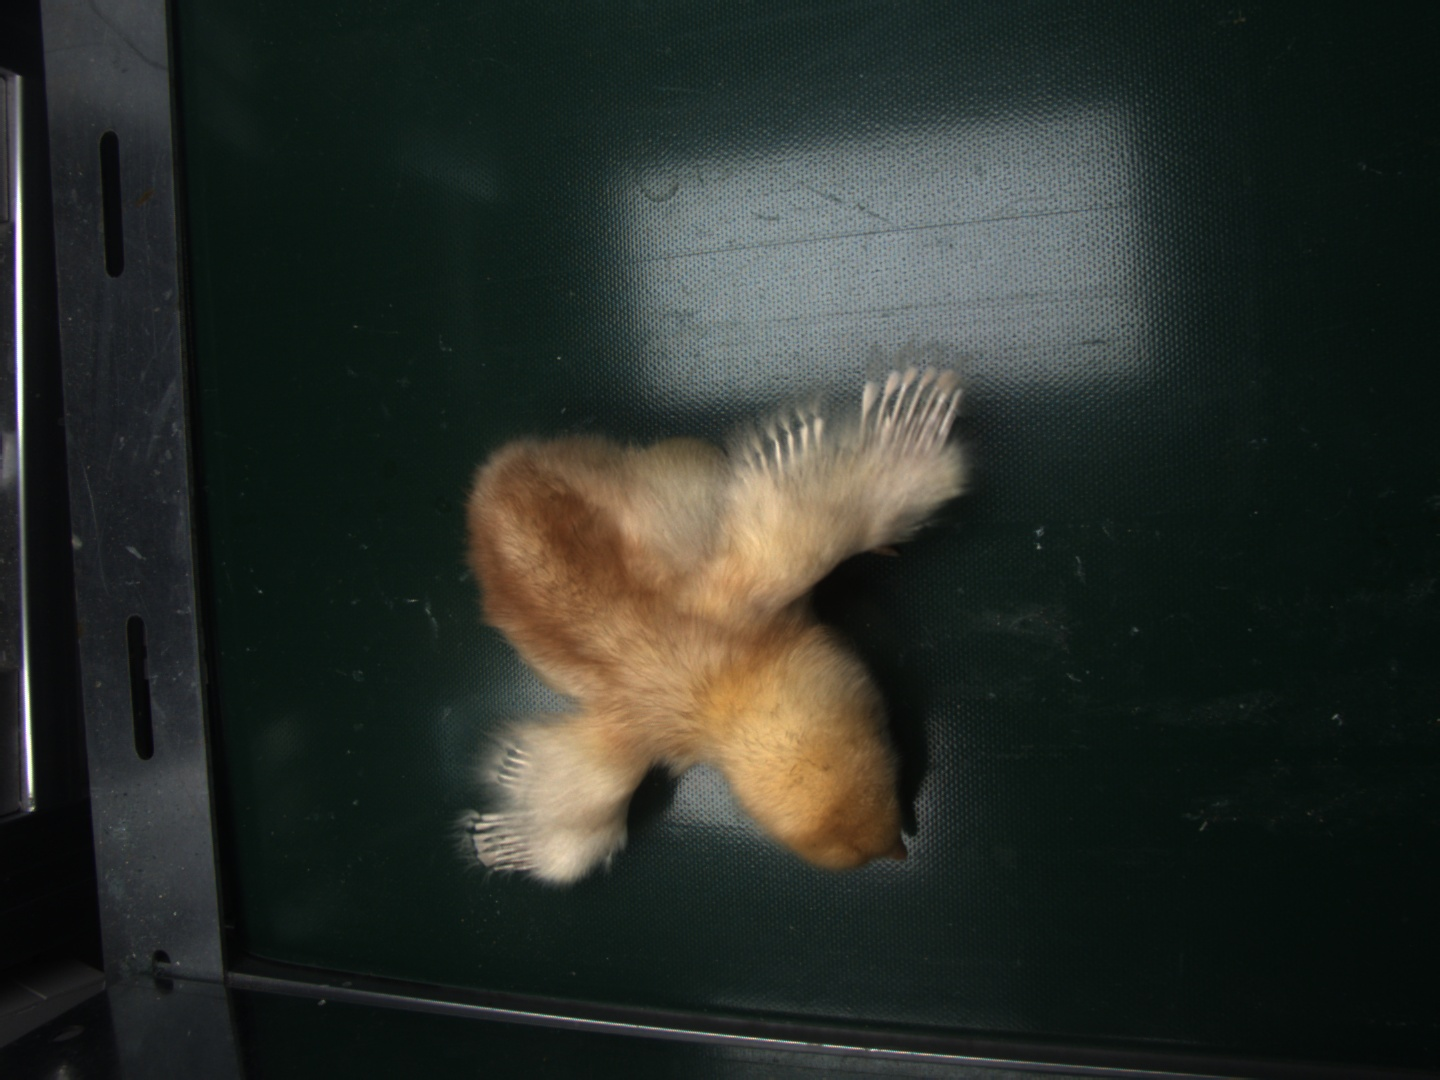female: (861, 373, 960, 445)
